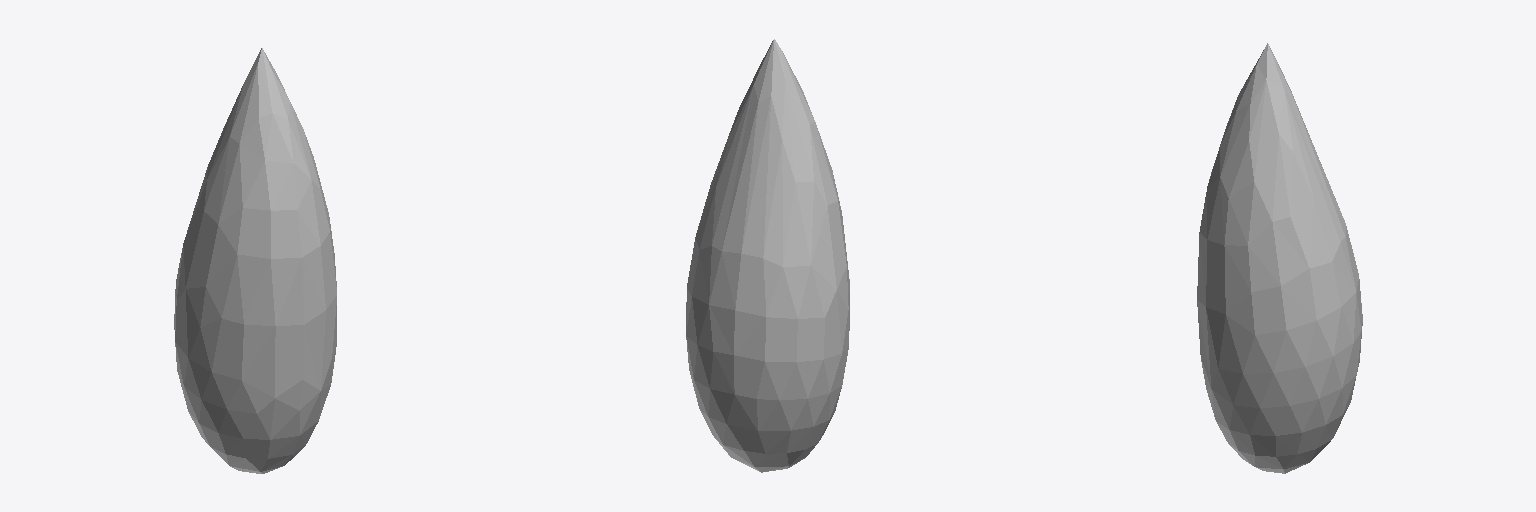
Rendered from candle_flame.obj.
3 renders of one model, left to right at view 1: azimuth 30°, elevation 25°; view 2: azimuth 150°, elevation 25°; view 3: azimuth 270°, elevation 25°, orthographic.
Parts seen in each view (by area): view 1: Sphere; view 2: Sphere; view 3: Sphere.
Part boxes in pixels (x1,y1,x2,y2): Sphere: (174,48,336,473); Sphere: (686,39,849,472); Sphere: (1197,43,1362,473).
Bounding box in the file's own units: 0.0184 × 0.0528 × 0.0186.